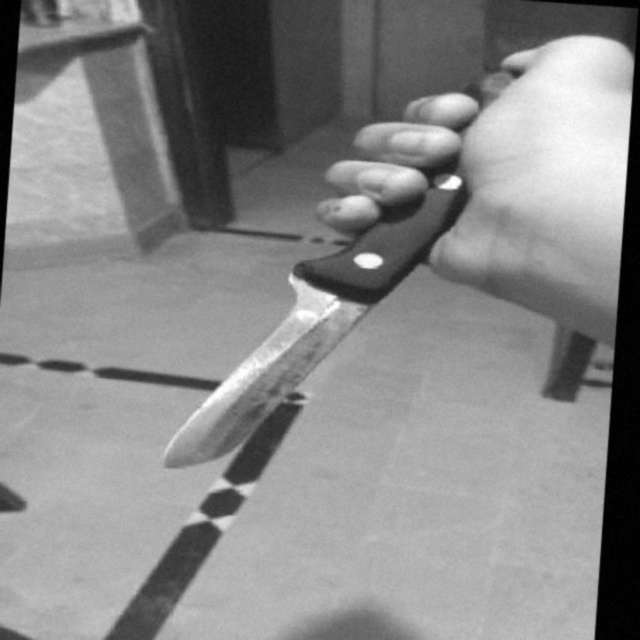Sharp-Object: (161, 48, 520, 491)
